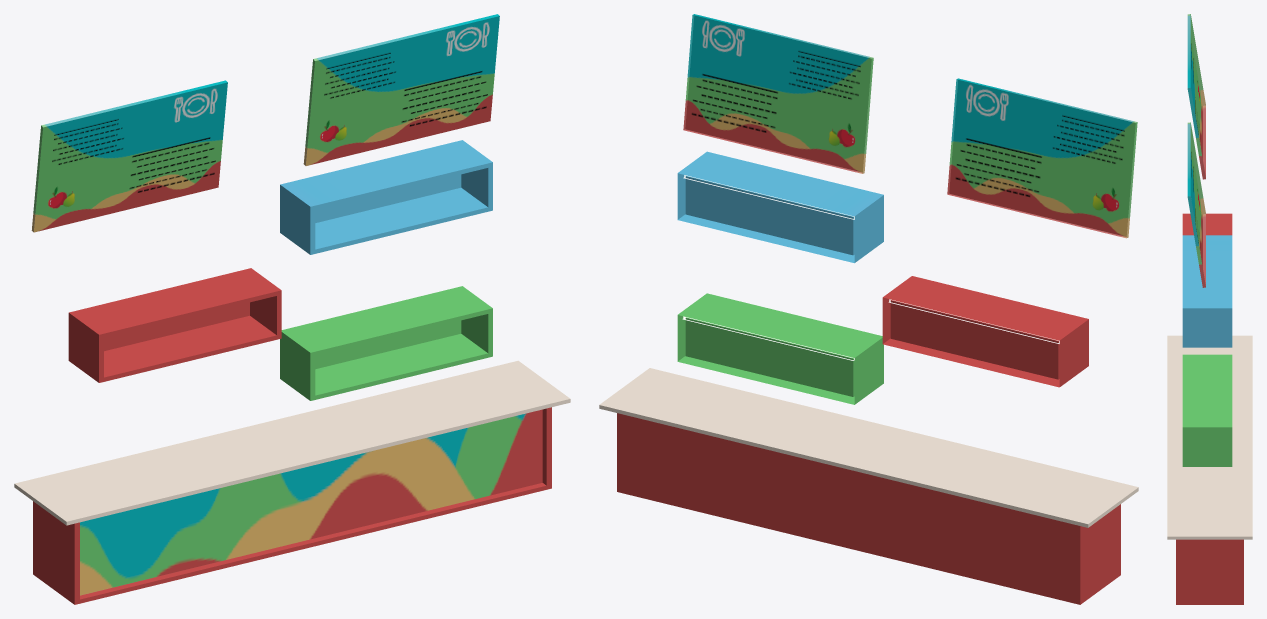
Rendered from Cantina.fbx.
The picture shows the model from 3 angles, left to right: view 1: azimuth 30°, elevation 25°; view 2: azimuth 150°, elevation 25°; view 3: azimuth 270°, elevation 25°; orthographic projection. The views are drawn at different scales.
Visible parts, largest first — view 1: Counter, Plane.001, Plane, PlatRed, PlatBlue, PlatGreen; view 2: Counter, Plane.001, Plane, PlatBlue, PlatRed, PlatGreen; view 3: Counter, PlatGreen, PlatBlue, Plane, Plane.001, PlatRed.
Boxes of the visible parts, x1=… form: Counter: x1=14, y1=360, x2=570, y2=604; Plane.001: x1=303, y1=14, x2=499, y2=165; Plane: x1=31, y1=80, x2=227, y2=232; PlatRed: x1=68, y1=268, x2=281, y2=382; PlatBlue: x1=280, y1=140, x2=492, y2=254; PlatGreen: x1=280, y1=286, x2=492, y2=400; Counter: x1=599, y1=368, x2=1138, y2=604; Plane.001: x1=683, y1=14, x2=873, y2=173; Plane: x1=947, y1=78, x2=1137, y2=238; PlatBlue: x1=677, y1=151, x2=883, y2=263; PlatRed: x1=882, y1=276, x2=1088, y2=387; PlatGreen: x1=677, y1=293, x2=883, y2=404; Counter: x1=1167, y1=335, x2=1252, y2=604; PlatGreen: x1=1182, y1=354, x2=1232, y2=466; PlatBlue: x1=1182, y1=235, x2=1232, y2=347; Plane: x1=1187, y1=14, x2=1205, y2=179; Plane.001: x1=1187, y1=122, x2=1205, y2=287; PlatRed: x1=1182, y1=213, x2=1232, y2=235.
Size of the model in its own units: 1248 by 1108 by 219.
